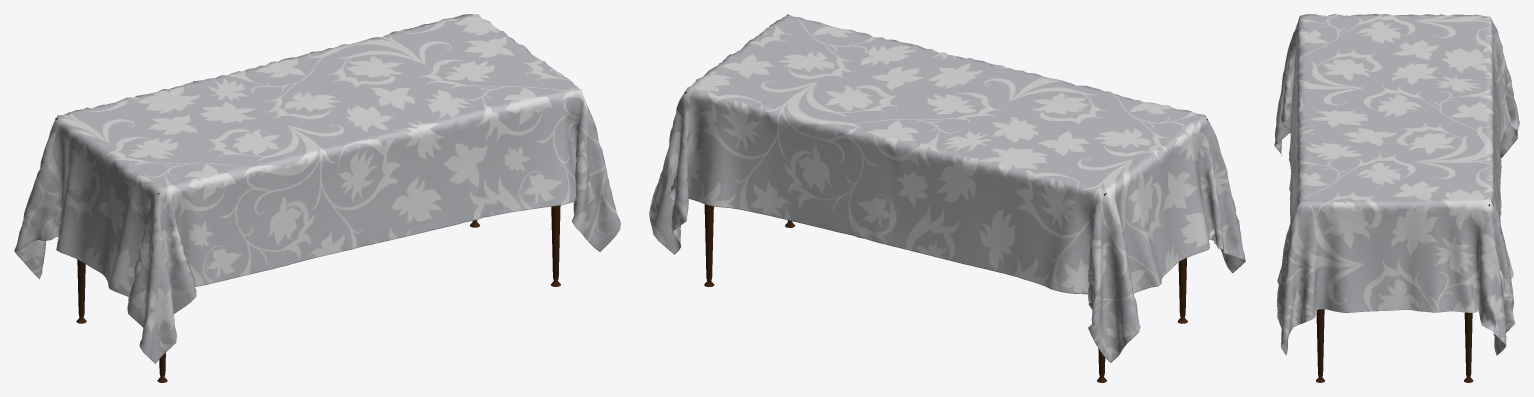
Rendered from table and cloth.FBX.
3 renders of one model, left to right at view 1: azimuth 30°, elevation 25°; view 2: azimuth 150°, elevation 25°; view 3: azimuth 270°, elevation 25°, orthographic. The views are drawn at different scales.
Visible parts, largest first — view 1: Rectangle001, Cone001; view 2: Rectangle001, Cone003, Cone002; view 3: Rectangle001, Cone001, Cone003.
Part boxes in pixels (x1,y1,x2,y2): Rectangle001: (14,14,620,363); Cone001: (550,205,560,286); Rectangle001: (649,14,1245,362); Cone003: (704,204,714,287); Cone002: (1177,258,1187,323); Rectangle001: (1274,14,1519,355); Cone001: (1316,309,1324,382); Cone003: (1464,312,1473,382).
Bounding box in the file's own units: 467 × 184 × 221.
Materials: 2 (1 with a texture image).
